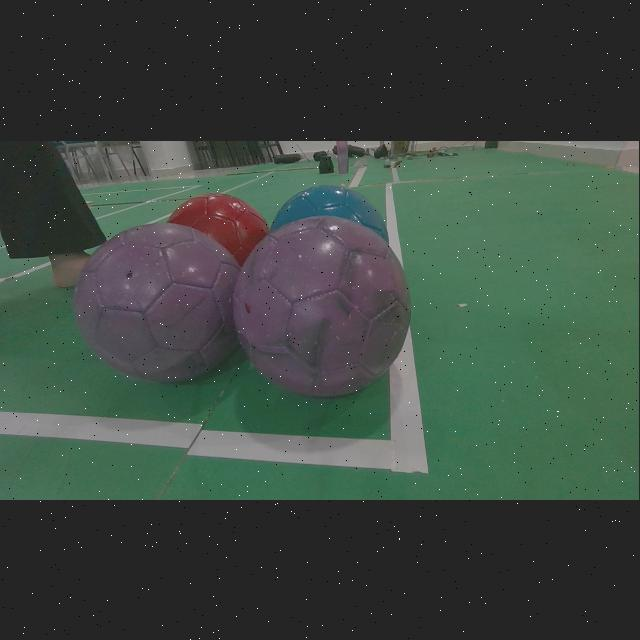B: (270, 184, 390, 241)
P: (234, 215, 412, 396), (74, 223, 240, 381)
R: (169, 192, 269, 264)
